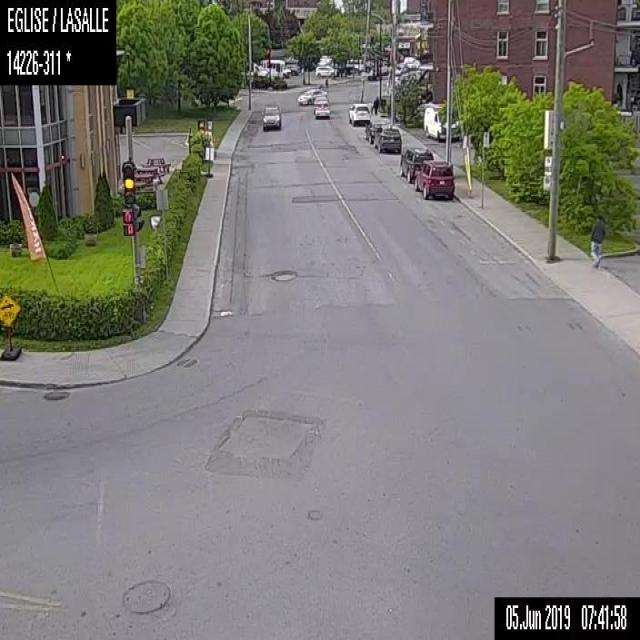pedestrian: (587, 212, 605, 268), (372, 95, 379, 116), (324, 77, 329, 92)
vehicle: (414, 159, 454, 200), (422, 100, 459, 140), (399, 144, 433, 182), (375, 124, 402, 153), (261, 57, 290, 77), (347, 102, 371, 126), (260, 104, 283, 129), (296, 86, 327, 103), (363, 118, 381, 143), (313, 99, 330, 118), (314, 64, 336, 77)
